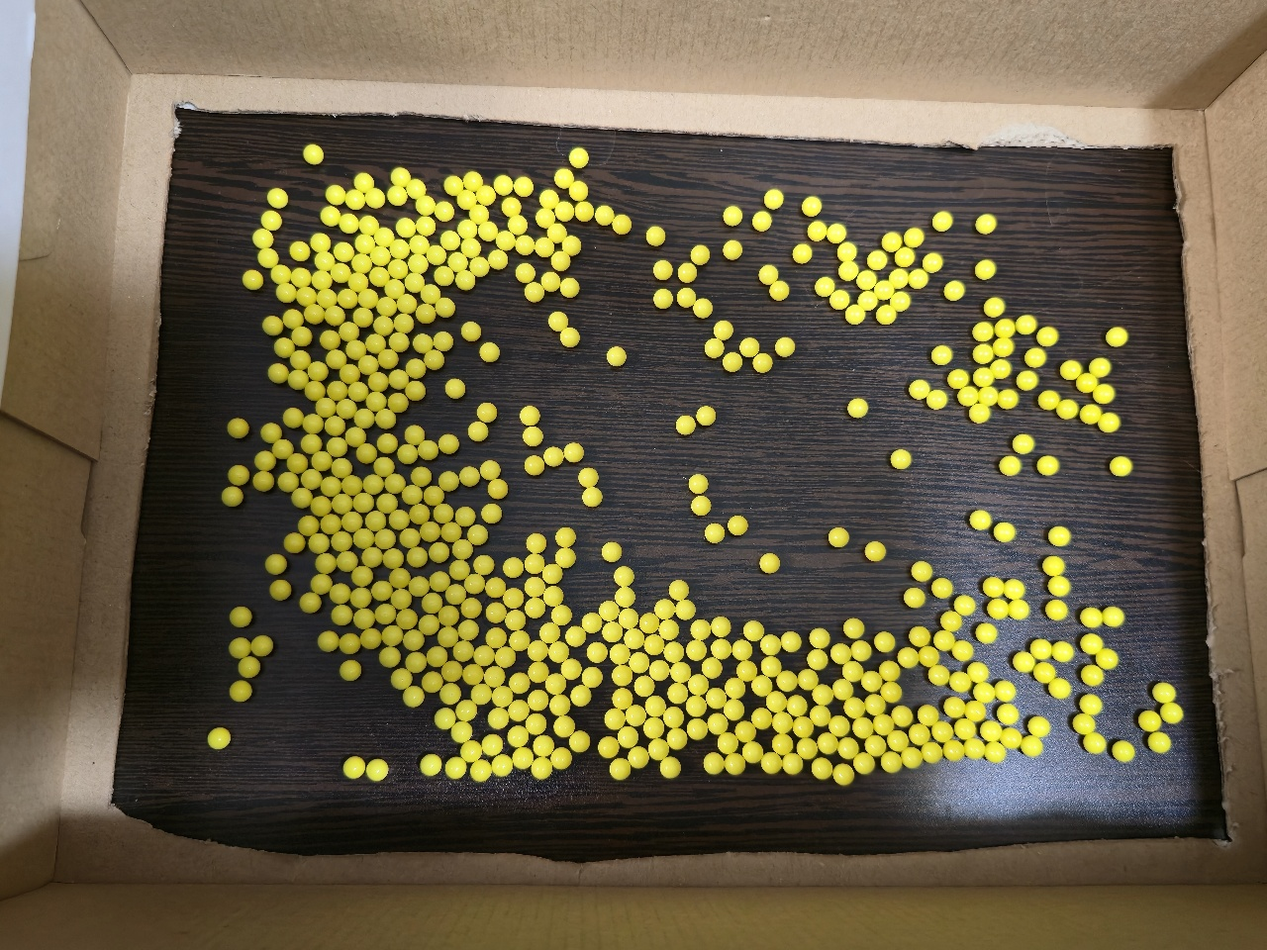yellow_bead: (348, 762, 360, 774), (1089, 738, 1102, 749), (1050, 605, 1063, 616), (1053, 581, 1066, 592), (843, 263, 854, 276), (536, 762, 547, 774), (450, 762, 461, 774), (497, 759, 508, 771), (426, 759, 437, 771), (465, 745, 476, 757), (1154, 737, 1166, 748), (213, 733, 225, 744), (513, 730, 524, 742), (985, 725, 997, 736), (1033, 721, 1045, 732), (439, 712, 450, 724), (1002, 709, 1014, 720), (1085, 700, 1097, 711), (978, 688, 990, 699), (1019, 656, 1030, 668), (957, 645, 969, 656), (1086, 638, 1098, 649), (938, 635, 950, 646), (1078, 718, 1091, 728), (1158, 688, 1171, 698), (1053, 531, 1066, 541), (842, 246, 852, 259), (858, 758, 869, 769), (709, 758, 720, 769), (766, 757, 777, 768), (518, 753, 529, 764), (926, 747, 937, 758), (1118, 746, 1129, 757), (653, 744, 664, 755), (802, 743, 813, 754), (456, 726, 467, 737), (692, 723, 703, 734), (857, 722, 868, 733), (648, 722, 659, 733), (493, 712, 504, 723), (650, 701, 661, 712), (711, 693, 722, 704), (497, 691, 508, 702), (514, 678, 525, 689), (954, 677, 965, 688), (489, 671, 500, 682), (675, 667, 686, 678), (835, 648, 846, 659), (1058, 646, 1069, 657), (981, 628, 992, 639), (748, 625, 759, 636), (620, 592, 631, 603), (936, 583, 947, 594), (927, 257, 938, 268), (937, 216, 948, 227), (615, 763, 625, 775), (843, 742, 853, 754), (445, 688, 455, 700), (1054, 684, 1066, 694), (972, 667, 984, 677), (707, 662, 717, 674), (1085, 613, 1097, 623), (659, 605, 671, 615), (999, 527, 1011, 537), (1115, 461, 1127, 471), (1065, 365, 1077, 375), (1029, 352, 1041, 362), (838, 769, 848, 780), (817, 763, 827, 774), (665, 762, 675, 773), (788, 758, 798, 769), (886, 757, 896, 768), (556, 753, 566, 764), (991, 747, 1001, 758), (1026, 741, 1037, 751), (870, 741, 881, 751), (538, 740, 548, 751), (487, 739, 497, 750), (892, 735, 902, 746), (937, 726, 948, 736), (559, 721, 569, 732), (834, 720, 844, 731), (879, 719, 889, 730), (713, 718, 723, 729), (610, 713, 620, 724), (897, 711, 908, 721), (514, 705, 524, 716), (792, 701, 802, 712), (691, 701, 701, 712), (554, 701, 565, 711), (771, 697, 781, 708), (533, 695, 543, 706), (576, 691, 586, 702), (409, 691, 419, 702), (476, 689, 486, 700), (673, 688, 683, 699), (837, 684, 847, 695), (639, 681, 649, 692), (550, 679, 560, 690), (782, 676, 792, 687), (803, 674, 813, 685), (587, 672, 597, 683), (617, 670, 627, 681), (468, 669, 478, 680), (847, 666, 857, 677), (654, 665, 664, 676), (766, 661, 776, 672), (411, 657, 421, 668), (813, 654, 823, 665), (903, 652, 913, 663), (479, 650, 489, 661), (553, 646, 563, 657), (691, 645, 701, 656), (1036, 644, 1046, 655), (716, 644, 727, 654), (765, 640, 776, 650), (515, 635, 525, 646), (544, 627, 554, 638), (608, 626, 618, 637), (696, 624, 706, 635), (664, 624, 674, 635), (848, 623, 859, 633), (530, 603, 540, 614), (909, 593, 920, 603), (917, 566, 927, 577), (1005, 461, 1016, 471), (896, 454, 907, 464), (1018, 439, 1029, 449), (1099, 389, 1110, 399), (936, 350, 947, 360), (978, 348, 988, 359), (1021, 320, 1032, 330), (881, 310, 892, 320), (989, 303, 1000, 313), (895, 296, 906, 306), (949, 286, 960, 296), (861, 275, 872, 285), (872, 255, 883, 265), (263, 252, 273, 263), (316, 238, 326, 249), (257, 234, 268, 244), (981, 219, 992, 229), (272, 193, 283, 203), (392, 190, 402, 201), (634, 751, 643, 763), (975, 515, 987, 524), (1042, 461, 1054, 470), (974, 409, 986, 418), (1094, 363, 1106, 372), (1165, 709, 1178, 717), (907, 753, 917, 763), (672, 734, 682, 744), (631, 711, 641, 721), (849, 703, 859, 713), (818, 690, 828, 700), (1001, 686, 1011, 696), (397, 674, 407, 684), (566, 664, 576, 674), (634, 658, 644, 668), (500, 652, 510, 662), (615, 649, 625, 659), (669, 647, 679, 657), (856, 646, 866, 656), (458, 646, 468, 656), (880, 637, 890, 647), (409, 635, 419, 645), (815, 633, 825, 643), (491, 633, 501, 643), (463, 625, 473, 635), (424, 619, 434, 629), (587, 618, 597, 628), (1110, 612, 1120, 622), (491, 608, 501, 618), (604, 606, 614, 616), (680, 605, 690, 615), (396, 594, 406, 604), (450, 590, 460, 600), (1011, 584, 1021, 594), (469, 579, 479, 589), (619, 571, 629, 581), (547, 569, 557, 579), (454, 565, 464, 575), (508, 563, 518, 573), (479, 560, 489, 570), (412, 552, 422, 562), (607, 547, 617, 557), (870, 546, 880, 556), (457, 544, 467, 554), (380, 534, 390, 544), (833, 532, 843, 542), (696, 501, 706, 511), (358, 498, 368, 508), (587, 492, 597, 502), (443, 476, 453, 486), (306, 474, 316, 484), (525, 411, 535, 421), (963, 391, 973, 401), (850, 310, 860, 320), (863, 296, 873, 306), (879, 285, 889, 295), (460, 275, 470, 285), (439, 271, 449, 281), (413, 258, 423, 268), (320, 255, 330, 265), (900, 252, 910, 262), (401, 223, 411, 233), (266, 216, 276, 226), (540, 213, 550, 223), (807, 201, 817, 211), (421, 201, 431, 211), (350, 195, 360, 205), (769, 194, 779, 204), (370, 193, 380, 203), (331, 190, 341, 200), (309, 149, 319, 159), (475, 765, 484, 776), (971, 743, 980, 754), (723, 737, 732, 748), (531, 718, 540, 729), (729, 704, 738, 715), (693, 679, 702, 690), (432, 651, 441, 662), (533, 645, 542, 656), (256, 641, 267, 650), (630, 633, 639, 644), (443, 631, 452, 642), (717, 621, 726, 632), (510, 616, 521, 625), (380, 609, 391, 618), (548, 591, 557, 602), (370, 516, 381, 525), (1104, 418, 1115, 427), (1062, 405, 1073, 414), (852, 404, 863, 413), (931, 395, 942, 404), (915, 385, 926, 394), (1022, 376, 1033, 385), (952, 374, 963, 383), (1111, 332, 1122, 341), (1042, 332, 1053, 341), (834, 295, 845, 304), (894, 273, 903, 284), (980, 265, 991, 274), (466, 242, 475, 253), (909, 233, 920, 242), (519, 181, 528, 192), (449, 180, 458, 191), (574, 152, 583, 163), (747, 746, 755, 758), (626, 731, 634, 743), (945, 617, 957, 625), (960, 725, 970, 734), (815, 711, 824, 721), (461, 706, 471, 715), (949, 703, 959, 712), (618, 694, 627, 704), (428, 677, 437, 687), (534, 667, 543, 677), (446, 666, 456, 675), (385, 652, 395, 661), (624, 614, 634, 623), (358, 614, 368, 623), (556, 611, 566, 620), (994, 605, 1003, 615), (508, 594, 518, 603), (355, 593, 365, 602), (674, 586, 683, 596), (491, 583, 500, 593), (530, 582, 539, 592), (414, 582, 424, 591), (530, 559, 539, 569), (342, 557, 352, 566), (560, 553, 569, 563), (367, 552, 376, 562), (314, 538, 324, 547), (405, 533, 415, 542), (560, 532, 570, 541), (473, 530, 483, 539), (347, 517, 357, 526), (460, 512, 469, 522), (487, 509, 497, 518), (382, 499, 392, 508), (407, 490, 417, 499), (368, 480, 378, 489), (694, 479, 703, 489), (390, 479, 400, 488), (583, 473, 593, 482), (464, 472, 474, 481), (485, 466, 495, 475), (379, 462, 389, 471), (548, 452, 558, 461), (423, 445, 433, 454), (528, 431, 537, 441), (473, 427, 483, 436), (381, 414, 391, 423), (359, 414, 369, 423), (482, 408, 491, 418), (341, 404, 351, 413), (1005, 394, 1014, 404), (394, 375, 404, 384), (363, 360, 373, 369), (744, 343, 754, 352), (394, 337, 404, 346), (978, 327, 988, 336), (658, 294, 668, 303), (426, 289, 436, 298), (281, 288, 291, 297), (390, 284, 400, 293), (820, 282, 829, 292), (317, 275, 327, 284), (915, 274, 924, 284), (296, 273, 306, 282), (374, 272, 384, 281), (521, 268, 530, 278), (393, 264, 403, 273), (475, 262, 484, 272), (493, 255, 503, 264), (375, 251, 385, 260), (432, 250, 441, 260), (798, 248, 807, 258), (339, 247, 348, 257), (395, 244, 405, 253), (539, 242, 549, 251), (415, 240, 424, 250), (360, 239, 370, 248), (887, 237, 896, 247), (445, 236, 455, 245), (483, 227, 493, 236), (813, 226, 822, 236), (513, 220, 522, 230), (344, 219, 353, 229), (757, 216, 766, 226), (326, 211, 335, 221), (439, 206, 448, 216), (481, 190, 490, 200), (574, 186, 583, 196), (412, 184, 421, 194), (499, 180, 508, 190), (359, 178, 368, 188), (559, 173, 568, 183), (396, 172, 405, 182), (603, 742, 611, 753), (574, 736, 582, 747), (915, 729, 923, 740), (778, 717, 786, 728), (871, 700, 879, 711), (389, 630, 397, 641), (988, 582, 999, 590), (1047, 561, 1058, 569), (356, 259, 367, 267), (731, 758, 738, 770), (644, 618, 653, 627), (443, 611, 452, 620), (428, 598, 437, 607), (377, 586, 386, 595), (317, 579, 326, 588), (435, 577, 444, 586), (765, 559, 774, 568), (358, 533, 367, 542), (710, 528, 719, 537), (732, 521, 741, 530), (394, 515, 403, 524), (439, 509, 448, 518), (493, 484, 502, 493), (569, 448, 578, 457), (332, 442, 341, 451), (410, 430, 419, 439), (1043, 396, 1052, 405), (353, 387, 362, 396), (450, 384, 459, 393), (758, 358, 767, 367), (728, 357, 737, 366), (430, 355, 439, 364), (612, 352, 621, 361), (485, 347, 494, 356), (710, 343, 719, 352), (780, 342, 789, 351), (371, 339, 380, 348), (565, 332, 574, 341), (719, 326, 728, 335), (553, 317, 562, 326), (698, 304, 707, 313), (440, 303, 449, 312), (402, 299, 411, 308), (682, 293, 691, 302), (775, 286, 784, 295), (410, 278, 419, 287), (546, 277, 555, 286), (764, 270, 773, 279), (276, 270, 285, 279), (683, 268, 692, 277), (336, 268, 345, 277), (658, 265, 667, 274), (453, 257, 462, 266), (696, 250, 705, 259), (521, 240, 530, 249), (501, 236, 510, 245), (832, 229, 841, 238), (552, 229, 561, 238), (422, 222, 431, 231), (364, 221, 373, 230), (600, 211, 609, 220), (474, 210, 483, 219), (580, 207, 589, 216), (560, 207, 569, 216), (507, 203, 516, 212), (462, 195, 471, 204), (468, 176, 477, 185), (1007, 733, 1017, 741), (730, 684, 738, 694), (1090, 670, 1098, 680), (244, 662, 254, 670), (1016, 605, 1024, 615), (466, 604, 476, 612), (335, 589, 343, 599), (388, 554, 398, 562), (338, 499, 346, 509), (403, 449, 413, 457), (350, 432, 360, 440), (702, 411, 710, 421), (371, 397, 381, 405), (411, 364, 421, 372), (439, 336, 447, 346), (379, 233, 389, 241), (729, 211, 737, 221), (823, 738, 830, 749), (756, 713, 763, 724), (923, 711, 931, 720), (884, 666, 892, 675), (346, 666, 355, 674), (236, 643, 244, 652), (649, 641, 657, 650), (915, 631, 923, 640), (338, 610, 346, 619), (306, 598, 315, 606), (357, 571, 366, 579), (272, 559, 280, 568), (322, 558, 330, 567), (435, 547, 443, 556), (532, 539, 540, 548), (283, 477, 292, 485), (337, 463, 346, 471), (278, 444, 287, 452), (266, 428, 275, 436), (681, 421, 690, 429), (308, 420, 317, 428), (293, 375, 302, 383), (295, 355, 304, 363), (419, 339, 428, 347), (297, 332, 306, 340), (466, 327, 475, 335), (1001, 324, 1010, 332), (379, 322, 388, 330), (399, 319, 408, 327), (288, 315, 297, 323), (382, 302, 391, 310), (363, 294, 372, 302), (302, 292, 311, 300), (530, 287, 538, 296), (565, 283, 573, 292), (248, 275, 256, 284), (556, 256, 564, 265), (567, 241, 576, 249), (651, 232, 660, 240), (618, 220, 626, 229), (544, 195, 553, 203), (740, 726, 747, 736), (741, 666, 748, 676), (574, 631, 581, 641), (330, 422, 340, 429), (996, 364, 1006, 371), (322, 294, 332, 301), (799, 721, 805, 732), (871, 676, 877, 687), (938, 670, 944, 681), (596, 647, 602, 658), (790, 636, 796, 647), (999, 343, 1010, 349), (950, 749, 958, 757), (777, 740, 785, 748), (337, 536, 345, 544), (530, 461, 538, 469), (260, 456, 268, 464), (307, 439, 315, 447), (351, 345, 359, 353), (280, 343, 288, 351), (268, 322, 276, 330), (236, 689, 245, 696), (443, 439, 452, 446), (288, 414, 297, 421), (321, 403, 330, 410), (332, 355, 341, 362), (383, 354, 392, 361), (344, 328, 353, 335), (358, 313, 367, 320), (342, 294, 351, 301), (729, 245, 736, 254), (672, 712, 678, 722), (761, 681, 767, 691), (959, 601, 965, 611), (325, 636, 332, 644), (237, 613, 245, 620), (298, 493, 305, 501), (229, 492, 237, 499), (327, 482, 335, 489), (375, 377, 382, 385), (446, 527, 455, 533), (382, 438, 391, 444), (411, 386, 420, 392), (331, 311, 340, 317), (421, 309, 430, 315), (353, 278, 362, 284), (886, 689, 893, 696), (277, 585, 284, 592), (427, 526, 434, 533), (274, 369, 281, 376), (258, 476, 266, 482), (318, 456, 326, 462), (313, 367, 321, 373), (326, 335, 334, 341), (417, 472, 426, 477), (393, 398, 402, 403), (367, 634, 374, 640), (431, 491, 439, 496), (361, 449, 369, 454), (1087, 410, 1095, 415), (310, 386, 318, 391), (345, 369, 353, 374), (926, 653, 932, 659), (402, 615, 409, 620), (397, 573, 404, 578), (327, 520, 334, 525), (416, 510, 423, 515), (334, 386, 341, 391), (973, 707, 978, 713), (345, 640, 351, 645), (978, 373, 983, 379), (348, 481, 355, 485), (293, 459, 300, 463), (1148, 719, 1153, 724), (1041, 671, 1047, 675), (305, 522, 311, 526), (318, 502, 324, 506), (234, 425, 240, 429), (310, 310, 318, 313), (376, 764, 382, 767), (741, 645, 746, 648), (235, 471, 240, 474), (293, 539, 297, 542), (372, 765, 375, 768), (1088, 379, 1091, 381), (372, 773, 374, 775), (463, 232, 465, 234), (371, 769, 372, 771), (742, 654, 743, 655), (462, 229, 463, 230)
